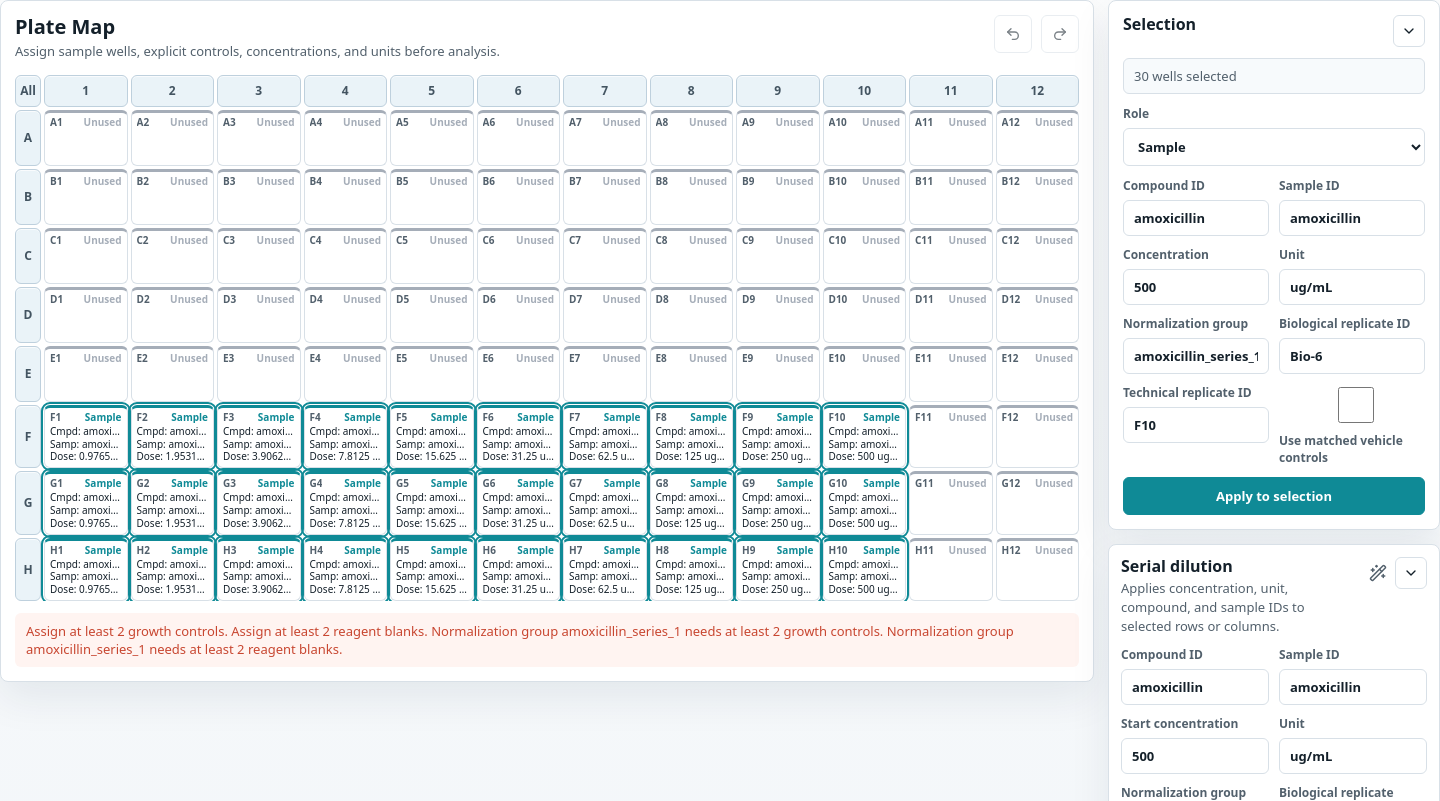
PlateMapEditor WebMCP sidebar synchronization › synchronizes a clicked dose into Selection while keeping the serial source at the high-dose well
The width and height of the screenshot is (1440, 801).
Step 1. Press the mouse on the button with class "map-cell" that starts with "Sample" → (86, 436), box x1=44 y1=405 x2=128 y2=468
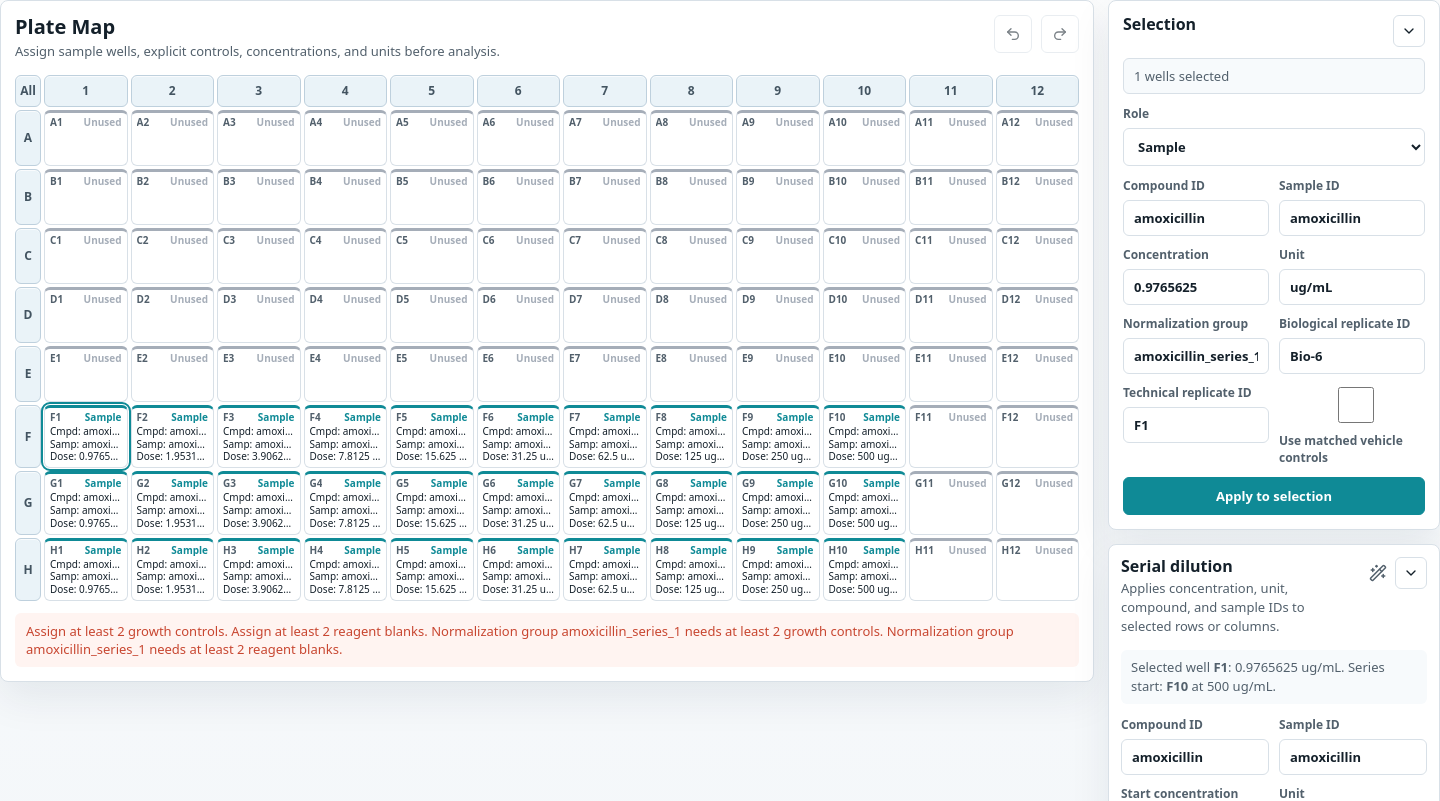
Check: the text with class "selected-summary" reads "1 wells selected", box x1=1123 y1=58 x2=1425 y2=94
Check: the element with class "serial-selection-context" shows "Selected well F1: 0.9765625 ug/mL.", box x1=1121 y1=650 x2=1427 y2=704
Check: the element with class "serial-selection-context" shows "Series start: F10 at 500 ug/mL.", box x1=1121 y1=650 x2=1427 y2=704
